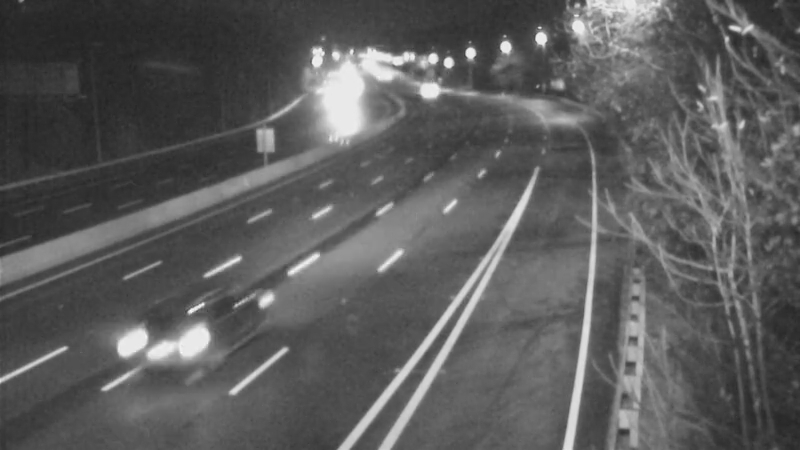vehicle: (110, 287, 220, 397), (401, 63, 451, 113)
